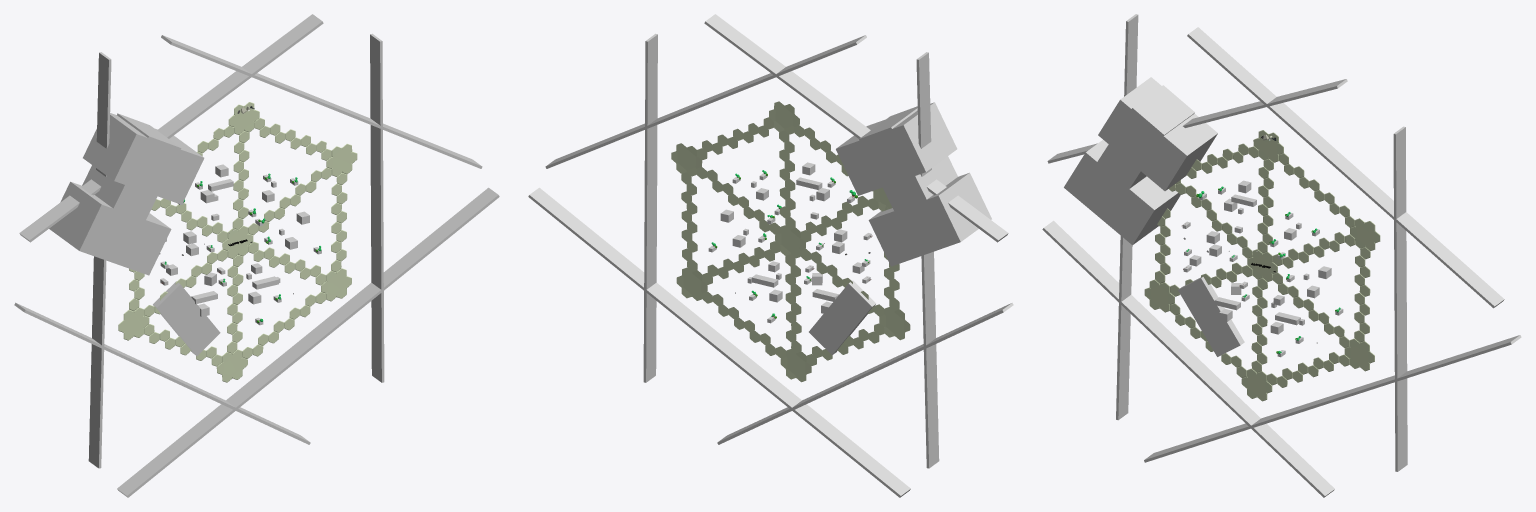
3 views of the same model, side by side, from view 1: azimuth 30°, elevation 25°; view 2: azimuth 150°, elevation 25°; view 3: azimuth 330°, elevation 25° (orthographic).
Parts seen in each view (by area): view 1: пол.003, Cube.048, Cube.039, Cube.040, Cube.043, Cube.041, Cube.046, Cube.045, Cube.049, Cube.044, Cube.047; view 2: пол.003, Cube.048, Cube.039, Cube.041, Cube.043, Cube.040, Cube.046, Cube.045, Cube.049, Cube.044, Cube.047; view 3: пол.003, Cube.040, Cube.044, Cube.047, Cube.043, Cube.041, Cube.039, Cube.046, Cube.048, Cube.049, Cube.045.
Part boxes in pixels (x1=…): пол.003: x1=118, y1=102, x2=357, y2=382; Cube.048: x1=117, y1=187, x2=499, y2=497; Cube.039: x1=49, y1=181, x2=171, y2=275; Cube.040: x1=82, y1=113, x2=181, y2=265; Cube.043: x1=370, y1=33, x2=384, y2=382; Cube.041: x1=83, y1=113, x2=204, y2=204; Cube.046: x1=88, y1=52, x2=111, y2=468; Cube.045: x1=19, y1=14, x2=323, y2=242; Cube.049: x1=153, y1=281, x2=220, y2=355; Cube.044: x1=161, y1=35, x2=482, y2=168; Cube.047: x1=14, y1=302, x2=310, y2=444; пол.003: x1=671, y1=101, x2=910, y2=382; Cube.048: x1=528, y1=187, x2=910, y2=497; Cube.039: x1=868, y1=172, x2=991, y2=266; Cube.041: x1=836, y1=102, x2=957, y2=195; Cube.043: x1=643, y1=33, x2=657, y2=382; Cube.040: x1=859, y1=106, x2=957, y2=253; Cube.046: x1=916, y1=52, x2=939, y2=468; Cube.045: x1=704, y1=14, x2=1008, y2=242; Cube.049: x1=809, y1=280, x2=876, y2=355; Cube.044: x1=545, y1=35, x2=866, y2=168; Cube.047: x1=717, y1=302, x2=1013, y2=444; пол.003: x1=1144, y1=130, x2=1380, y2=401; Cube.040: x1=1075, y1=85, x2=1194, y2=222; Cube.044: x1=1187, y1=27, x2=1504, y2=308; Cube.047: x1=1042, y1=220, x2=1334, y2=497; Cube.043: x1=1393, y1=126, x2=1407, y2=471; Cube.041: x1=1098, y1=77, x2=1217, y2=190; Cube.039: x1=1064, y1=140, x2=1180, y2=245; Cube.046: x1=1116, y1=14, x2=1138, y2=420; Cube.048: x1=1144, y1=335, x2=1521, y2=462; Cube.049: x1=1178, y1=277, x2=1244, y2=356; Cube.045: x1=1047, y1=79, x2=1347, y2=163.
Bounding box in the file's own units: 207 × 185 × 23.69.
